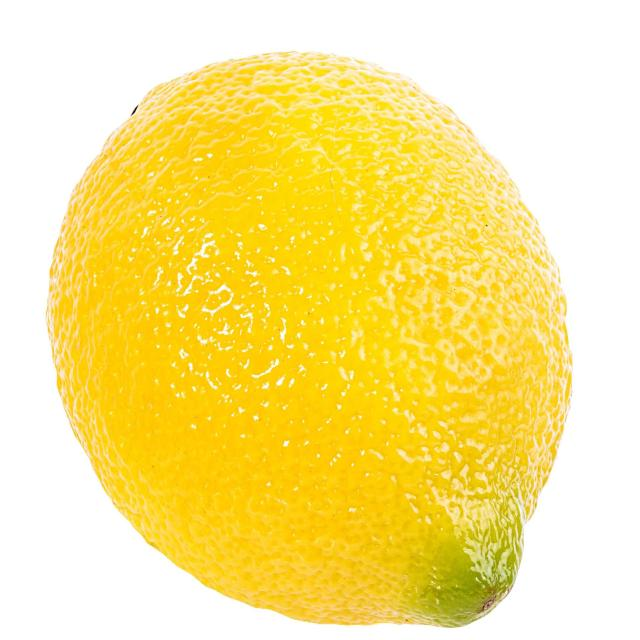lemon: (42, 36, 582, 633)
